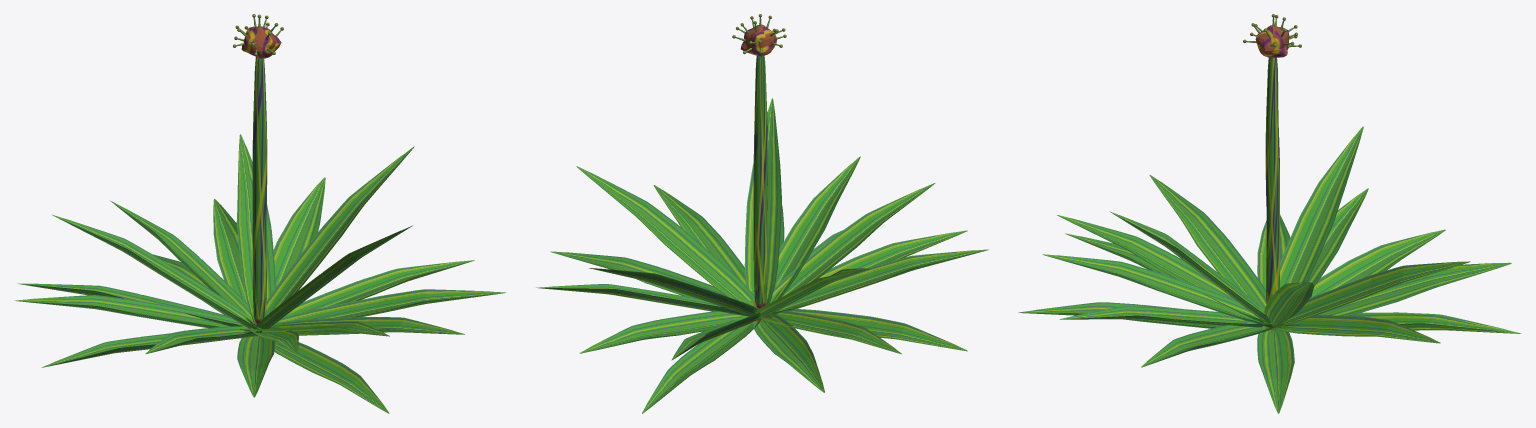
The model's file is plant.fbx.
3 views of the same model, side by side, from view 1: azimuth 30°, elevation 25°; view 2: azimuth 150°, elevation 25°; view 3: azimuth 270°, elevation 25° (orthographic). The views are drawn at different scales.
Parts seen in each view (by area): view 1: Cylinder; view 2: Cylinder; view 3: Cylinder.
Part boxes in pixels (x1=…): Cylinder: x1=14, y1=14, x2=506, y2=413; Cylinder: x1=536, y1=14, x2=988, y2=413; Cylinder: x1=1018, y1=14, x2=1521, y2=413.
Size of the model in its own units: 1953 by 1396 by 1985.
